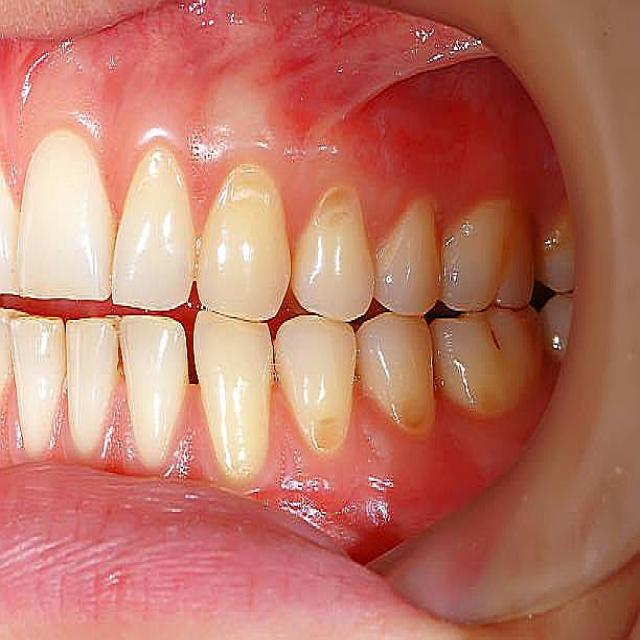caries: (308, 178, 371, 248), (303, 393, 351, 461), (384, 393, 441, 447)
